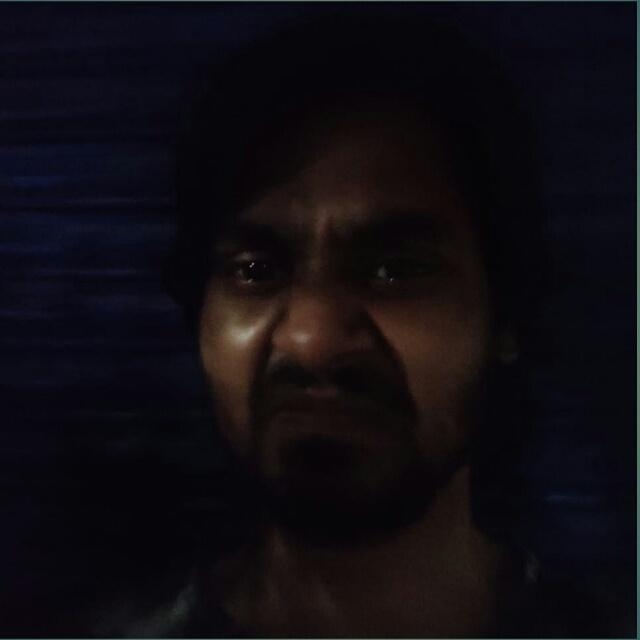Disgust: (155, 125, 500, 573)
